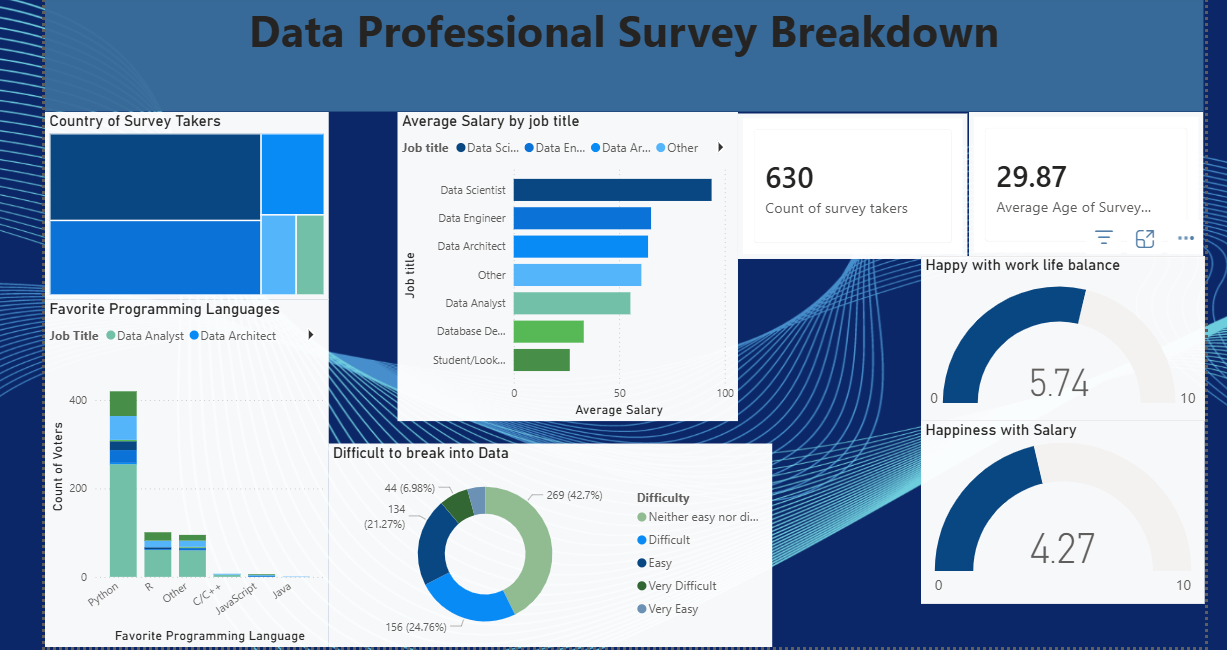

Layout of this report page (visuals, bound fields, positions):
{"tool":"powerbi","page":{"name":"Page 1","canvas":[1280,720],"ordinal":0},"visuals":[{"type":"textbox","box":[0,0,1279.4,128.5],"z":0},{"type":"cardVisual","fields":{"Data":["Count(Data Professional Survey.Unique ID)"]},"box":[765.6,130.4,253.2,160.6],"z":1000},{"type":"cardVisual","fields":{"Data":["Avg(Data Professional Survey.Q10 - Current Age)"]},"box":[1021.1,128.5,258.9,160.6],"z":2000},{"type":"barChart","title":"Average Salary by job title","fields":{"Y":["Avg(Data Professional Survey.Average Salary)"],"Series":["Data Professional Survey.Q1 - Which Title Best Fits your Current Role?.1"],"Category":["Data Professional Survey.Q1 - Which Title Best Fits your Current Role?.1"]},"box":[389.3,129.2,376,341.2],"z":3000},{"type":"columnChart","title":" Favorite Programming Languages","fields":{"Category":["Data Professional Survey.Q5 - Favorite Programming Language.1"],"Y":["CountNonNull(Data Professional Survey.Unique ID)"],"Series":["Data Professional Survey.Q1 - Which Title Best Fits your Current Role?.1"]},"box":[0,336.3,313.1,384.3],"z":4000},{"type":"treemap","title":"Country of Survey Takers","fields":{"Group":["Data Professional Survey.Q11 - Which Country do you live in?.1"],"Values":["CountNonNull(Data Professional Survey.Q11 - Which Country do you live in?.1)"]},"box":[0,129.2,313.1,207.1],"z":5000},{"type":"gauge","title":"Happy with work life balance","fields":{"Y":["Avg(Data Professional Survey.Q6 - How Happy are you in your Current Position with the following? (Work/Life Balance))"],"MinValue":["Min(Data Professional Survey.Q6 - How Happy are you in your Current Position with the following? (Work/Life Balance))1"],"MaxValue":["Max(Data Professional Survey.Q6 - How Happy are you in your Current Position with the following? (Work/Life Balance))2"]},"box":[967.4,288.2,313.1,182.2],"z":5001},{"type":"gauge","title":"Happiness with Salary","fields":{"Y":["Avg(Data Professional Survey.Q6 - How Happy are you in your Current Position with the following? (Salary))"],"MinValue":["Min(Data Professional Survey.Q6 - How Happy are you in your Current Position with the following? (Salary))"],"MaxValue":["Max(Data Professional Survey.Q6 - How Happy are you in your Current Position with the following? (Salary))1"]},"box":[967.4,470.4,313.1,202.1],"z":5002},{"type":"donutChart","title":"Difficult to break into Data","fields":{"Category":["Data Professional Survey.Q7 - How difficult was it for you to break into Data?"],"Y":["CountNonNull(Data Professional Survey.Average Salary)"]},"box":[313.1,495.3,490.3,225.3],"z":5003}]}

Visuals, with their boxes in screenshot pixels (x1, y1, x2, y2):
textbox: [x1=38, y1=0, x2=1217, y2=109]
cardVisual - Count(Data Professional Survey.Unique ID): [x1=744, y1=111, x2=977, y2=258]
cardVisual - Avg(Data Professional Survey.Q10 - Current Age): [x1=979, y1=109, x2=1217, y2=257]
"Average Salary by job title" barChart: [x1=397, y1=109, x2=743, y2=424]
" Favorite Programming Languages" columnChart: [x1=38, y1=300, x2=327, y2=649]
"Country of Survey Takers" treemap: [x1=38, y1=109, x2=327, y2=300]
"Happy with work life balance" gauge: [x1=929, y1=256, x2=1218, y2=424]
"Happiness with Salary" gauge: [x1=929, y1=424, x2=1218, y2=610]
"Difficult to break into Data" donutChart: [x1=327, y1=447, x2=778, y2=649]
